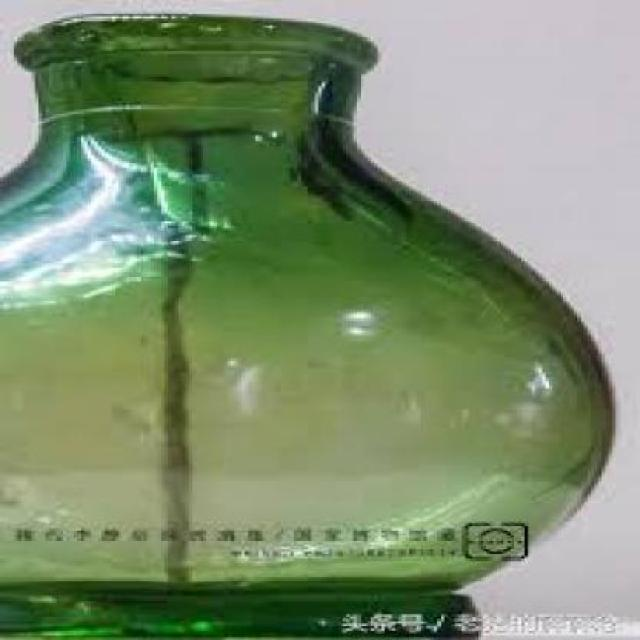kaca: (0, 13, 612, 638)
